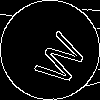W: (25, 25, 89, 89)
